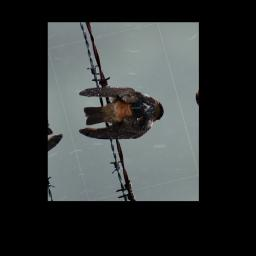Swallow: (67, 71, 170, 151)
